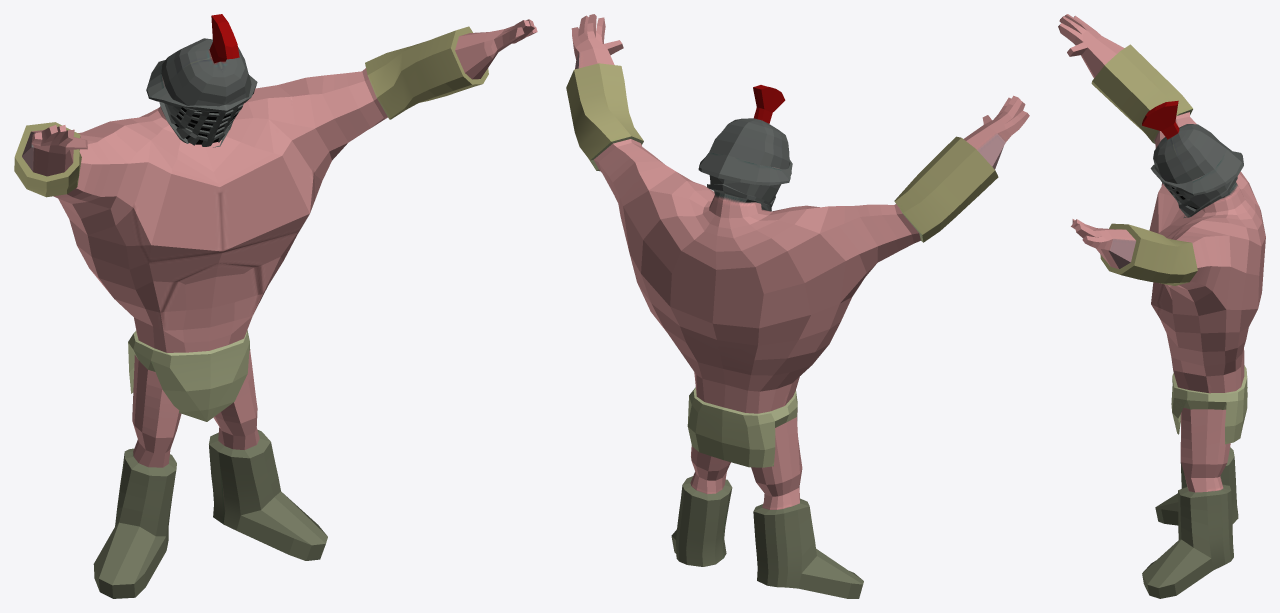
File: GladiatorCelebracion_000540.obj
3 renders of one model, left to right at view 1: azimuth 30°, elevation 25°; view 2: azimuth 150°, elevation 25°; view 3: azimuth 270°, elevation 25°, orthographic. The views are drawn at different scales.
Parts seen in each view (by area): view 1: Gadiador_Gladiador_H; view 2: Gadiador_Gladiador_H; view 3: Gadiador_Gladiador_H.
Boxes of the visible parts, x1,y1,x2,y2 form: Gadiador_Gladiador_H: (14, 14, 537, 598); Gadiador_Gladiador_H: (566, 14, 1029, 598); Gadiador_Gladiador_H: (1058, 14, 1265, 598).
Bounding box in the file's own units: 7.2 × 7.46 × 3.07.
Materials: 1 (1 with a texture image).
